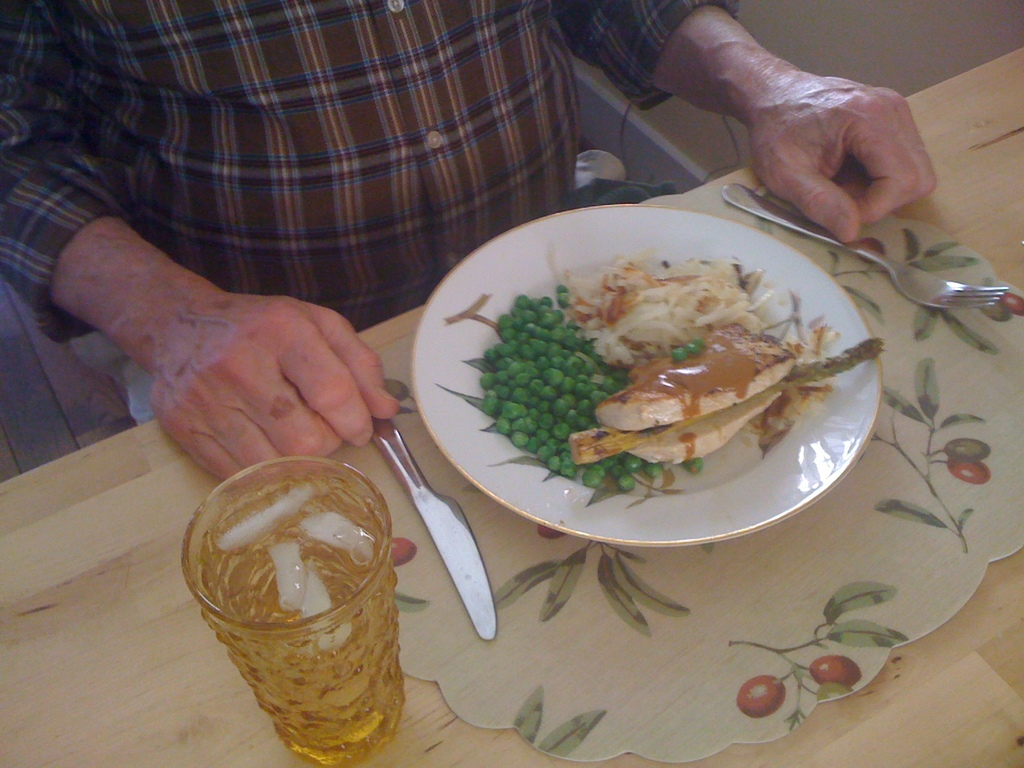plate: (403, 187, 882, 562)
